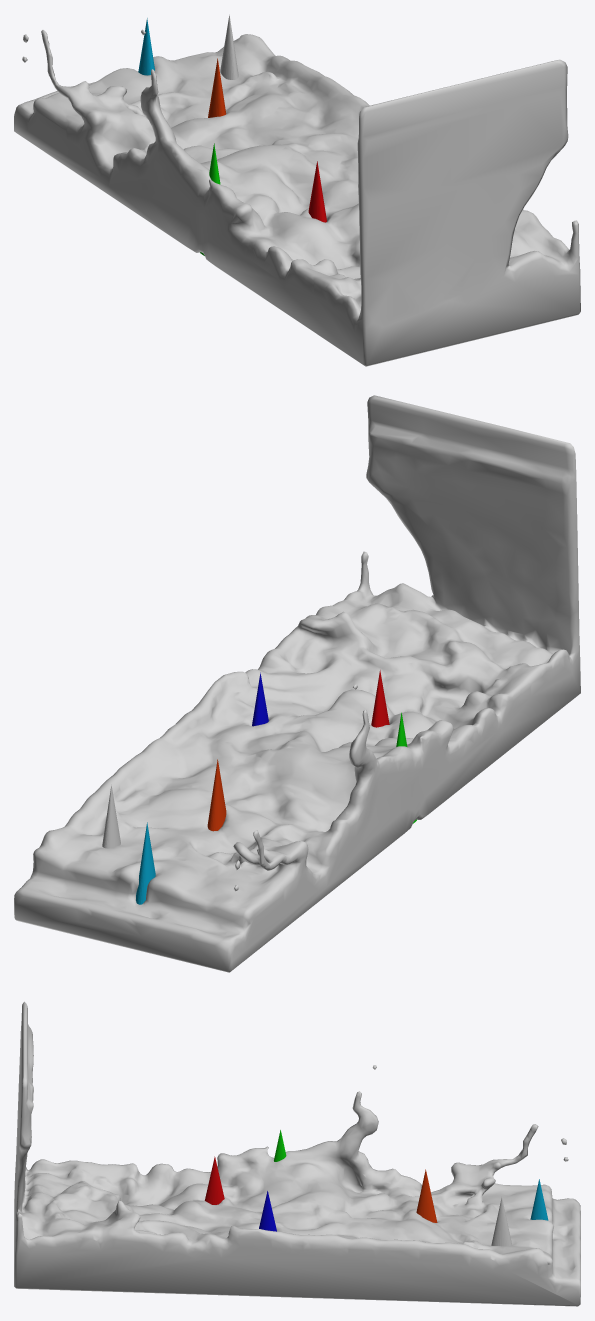
The picture shows the model from 3 angles, top to bottom: view 1: azimuth 30°, elevation 25°; view 2: azimuth 150°, elevation 25°; view 3: azimuth 270°, elevation 25°; orthographic projection. The views are drawn at different scales.
Parts seen in each view (by area): view 1: Liquid_Domain, 円錐, 円錐.001, 円錐.004, 円錐.005; view 2: Liquid_Domain, 円錐.005, 円錐.004; view 3: Liquid_Domain, 円錐.004, 円錐, 円錐.001, 円錐.005, 円錐.002.
Boxes of the visible parts, bbox=[...] form: Liquid_Domain: bbox=[14, 29, 580, 366]; 円錐: bbox=[220, 14, 238, 79]; 円錐.001: bbox=[308, 161, 326, 222]; 円錐.004: bbox=[208, 58, 226, 117]; 円錐.005: bbox=[138, 18, 154, 75]; Liquid_Domain: bbox=[14, 395, 580, 972]; 円錐.005: bbox=[136, 822, 155, 904]; 円錐.004: bbox=[207, 759, 226, 831]; Liquid_Domain: bbox=[14, 1001, 580, 1306]; 円錐.004: bbox=[416, 1169, 437, 1222]; 円錐: bbox=[491, 1197, 511, 1246]; 円錐.001: bbox=[204, 1156, 224, 1204]; 円錐.005: bbox=[530, 1179, 548, 1220]; 円錐.002: bbox=[259, 1191, 276, 1231].
Bounding box in the file's own units: 129 × 158 × 361.
